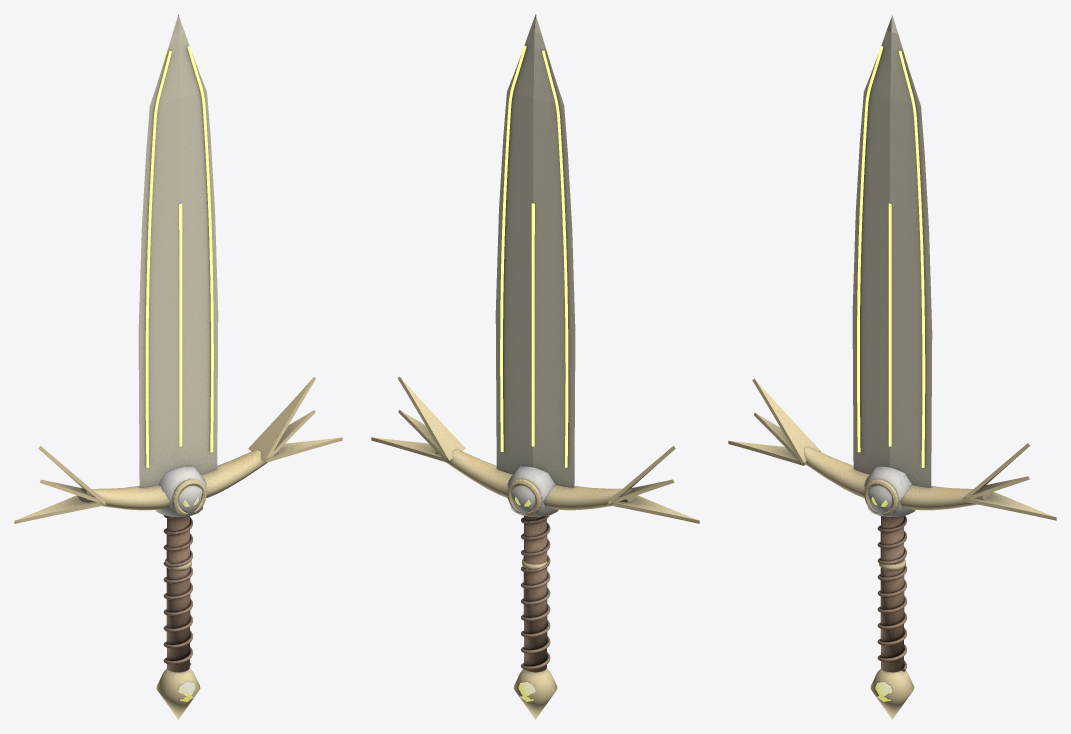
The model's file is arma_lend_espada_celestial.glb.
3 renders of one model, left to right at view 1: azimuth 30°, elevation 25°; view 2: azimuth 150°, elevation 25°; view 3: azimuth 330°, elevation 25°, orthographic.
Visible parts, largest first — view 1: arma_lend_espada_celestial, lamina_gume-1, lamina_gume1, lamina_runa-1; view 2: arma_lend_espada_celestial, lamina_gume-1b, lamina_gume1b, lamina_runa1; view 3: arma_lend_espada_celestial, lamina_gume1, lamina_gume-1, lamina_runa-1.
Part boxes in pixels (x1,y1,x2,y2): arma_lend_espada_celestial: (14, 14, 342, 719); lamina_gume-1: (145, 50, 171, 467); lamina_gume1: (187, 46, 213, 452); lamina_runa-1: (179, 203, 182, 446); arma_lend_espada_celestial: (371, 14, 699, 719); lamina_gume-1b: (542, 50, 568, 467); lamina_gume1b: (500, 45, 526, 452); lamina_runa1: (531, 203, 534, 446); arma_lend_espada_celestial: (728, 14, 1056, 719); lamina_gume1: (898, 50, 925, 467); lamina_gume-1: (857, 46, 883, 452); lamina_runa-1: (888, 203, 891, 446).
Size of the model in its own units: 0.7223 by 1.48 by 0.1088.
11 materials, 1 textured.
